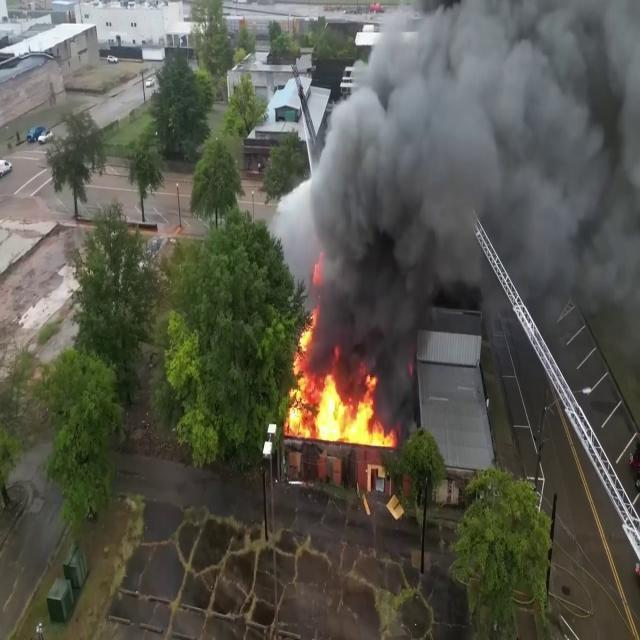Fire: (283, 336, 392, 452)
Smoke: (301, 1, 640, 354)
